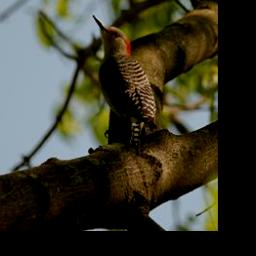Woodpecker: (91, 14, 156, 155)
